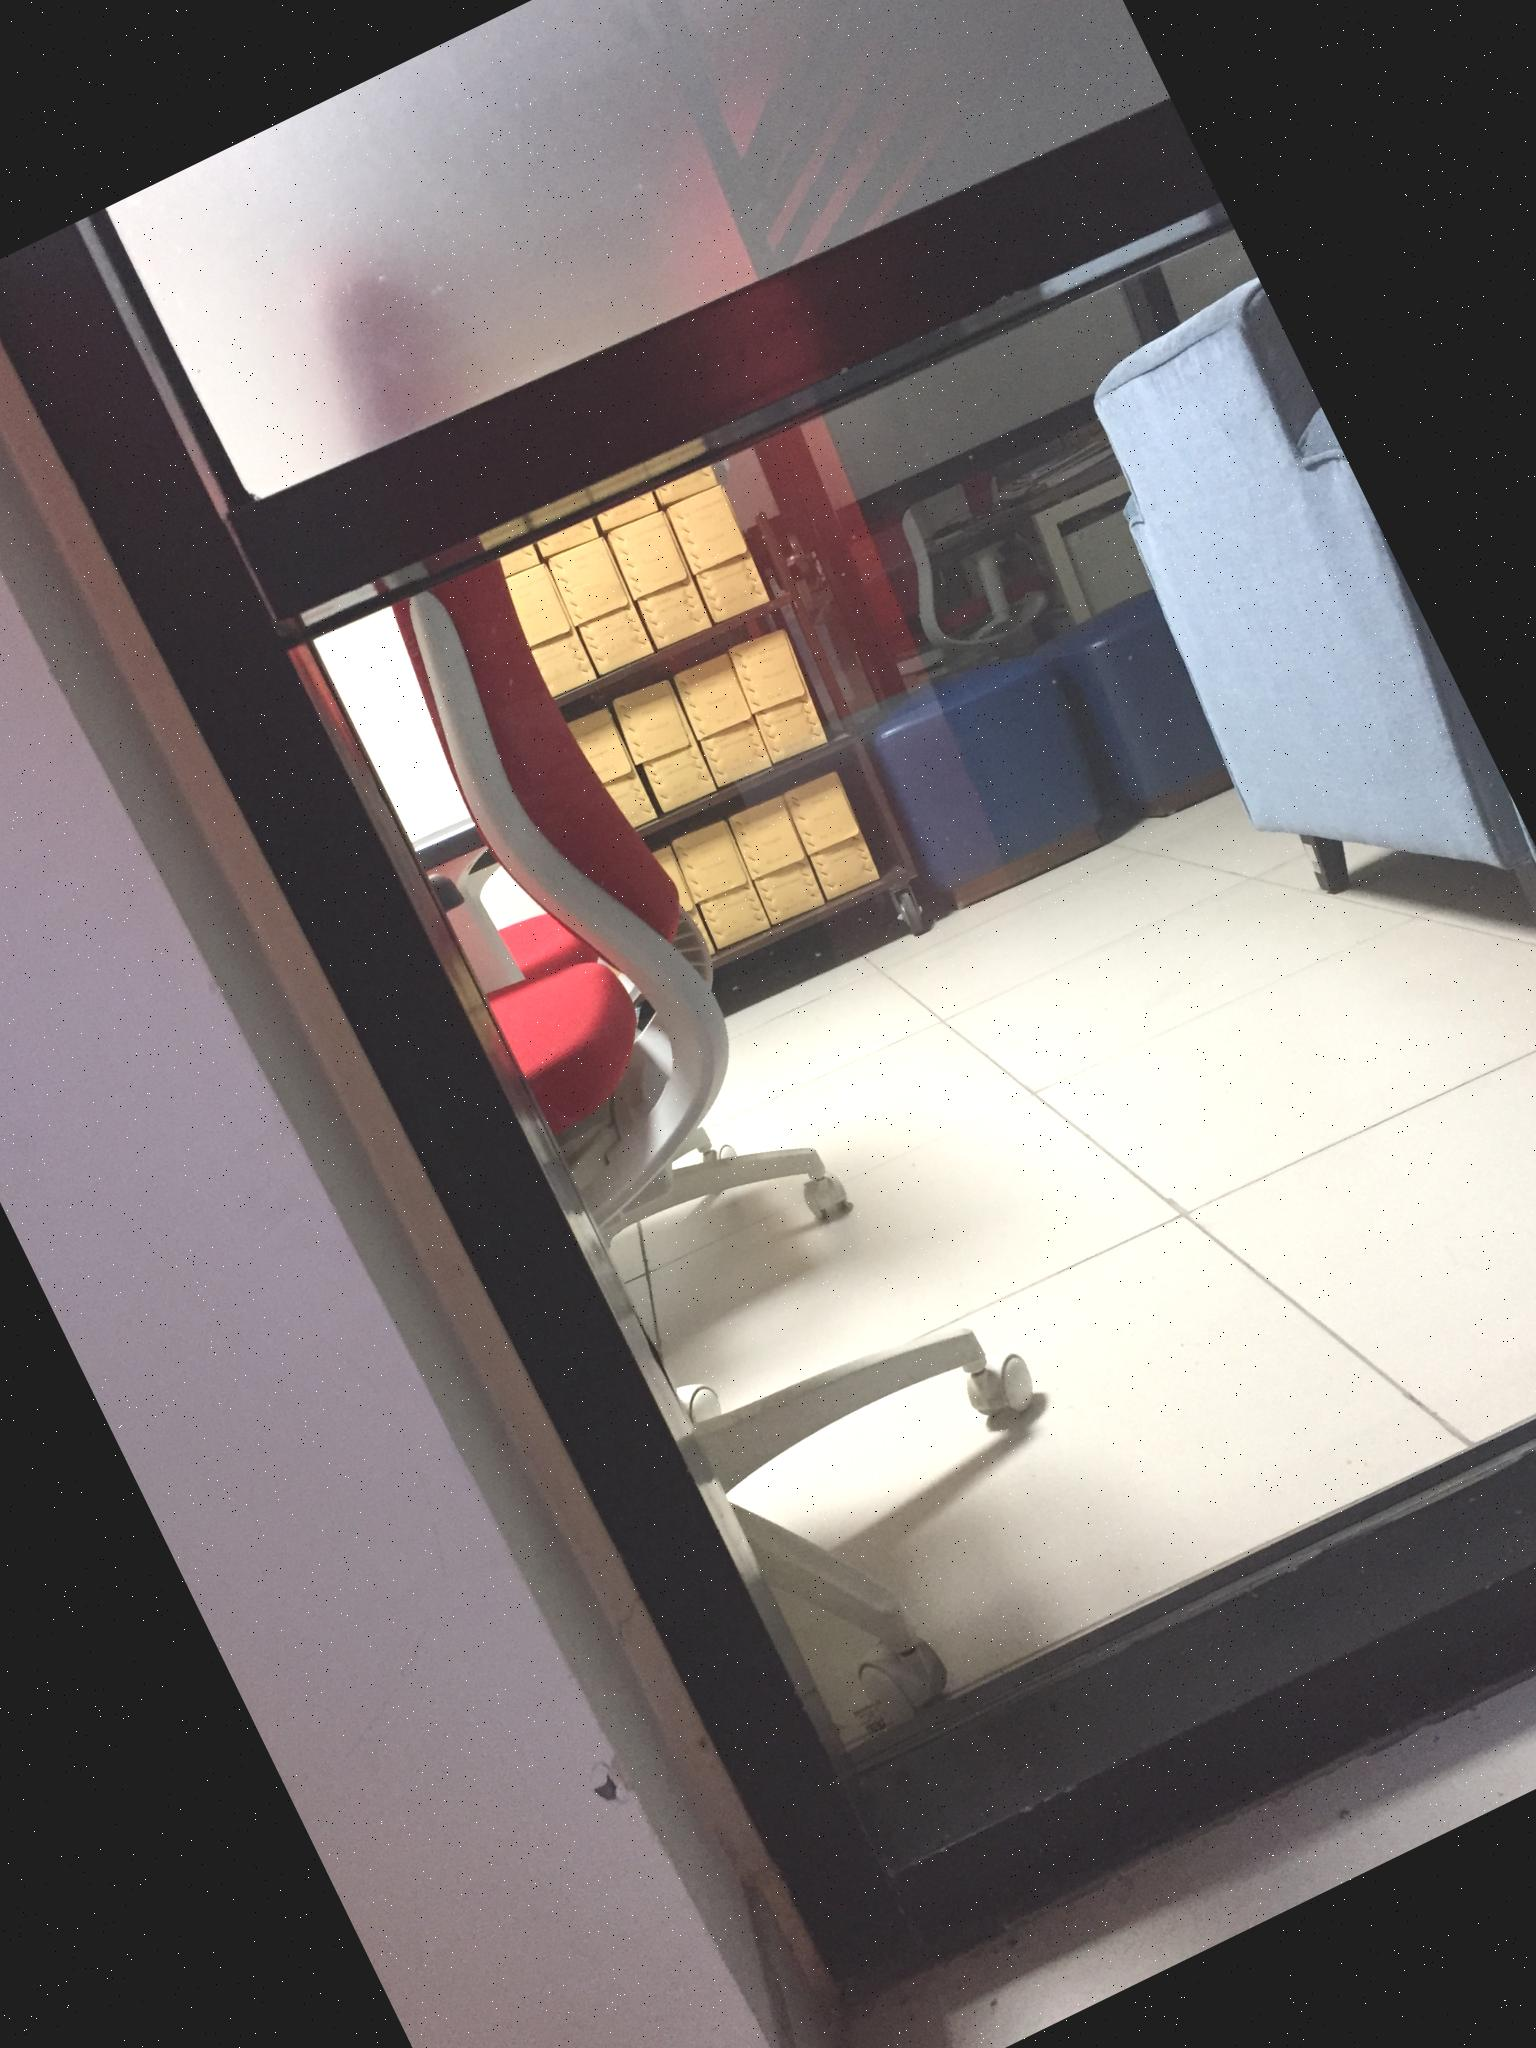chair: (29, 192, 1155, 1830)
